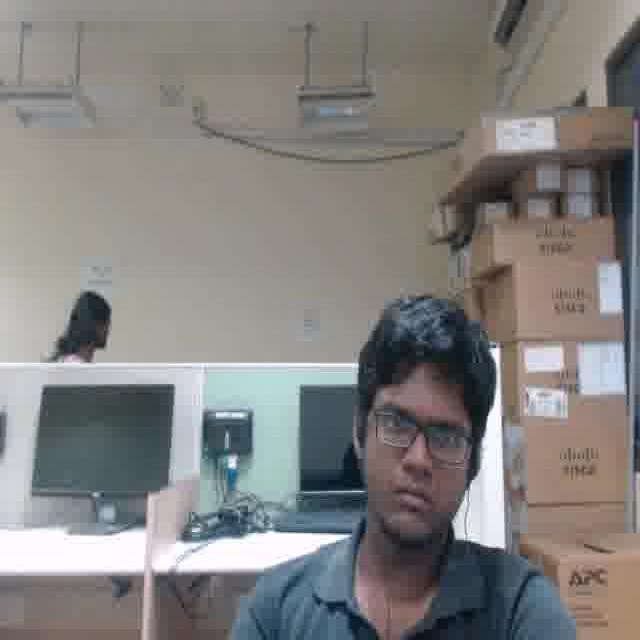Engaged: (363, 367, 467, 537)
